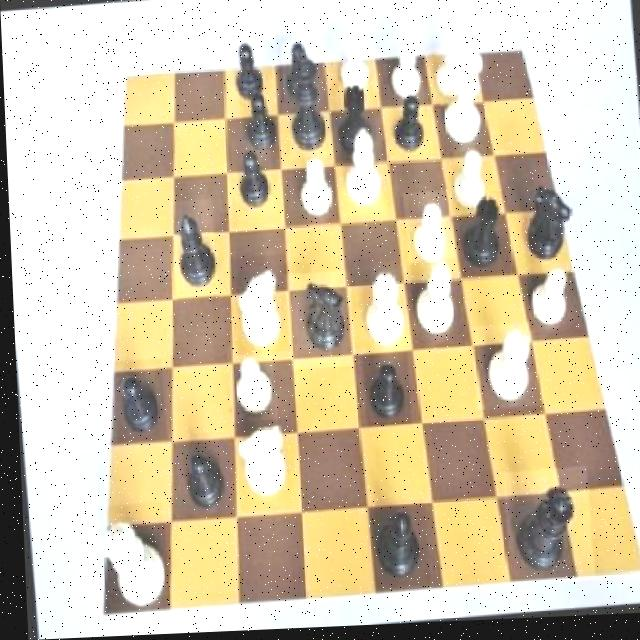bishop: (360, 503, 426, 593), (167, 200, 217, 303)
black-bishop: (281, 44, 332, 162)
black-king: (282, 274, 353, 373), (510, 177, 582, 270)
black-knight: (170, 433, 229, 522), (107, 359, 163, 444), (358, 356, 408, 433), (228, 141, 274, 220), (382, 91, 432, 161), (238, 86, 281, 158), (276, 35, 318, 104), (224, 38, 265, 103)
black-pawn: (497, 471, 589, 588)
black-queen: (451, 195, 509, 286), (329, 78, 377, 172)
black-rook: (404, 263, 461, 352), (333, 122, 384, 221)
white-bishop: (434, 38, 496, 158)
white-king: (227, 257, 290, 358), (231, 421, 288, 514)
white-knight: (223, 345, 275, 427), (428, 37, 477, 114), (401, 194, 451, 269), (441, 145, 493, 216), (287, 150, 336, 225), (521, 266, 574, 335), (382, 38, 429, 109), (331, 31, 376, 99)
white-pawn: (92, 504, 166, 617)
white-queen: (467, 326, 537, 415), (351, 265, 407, 361)
